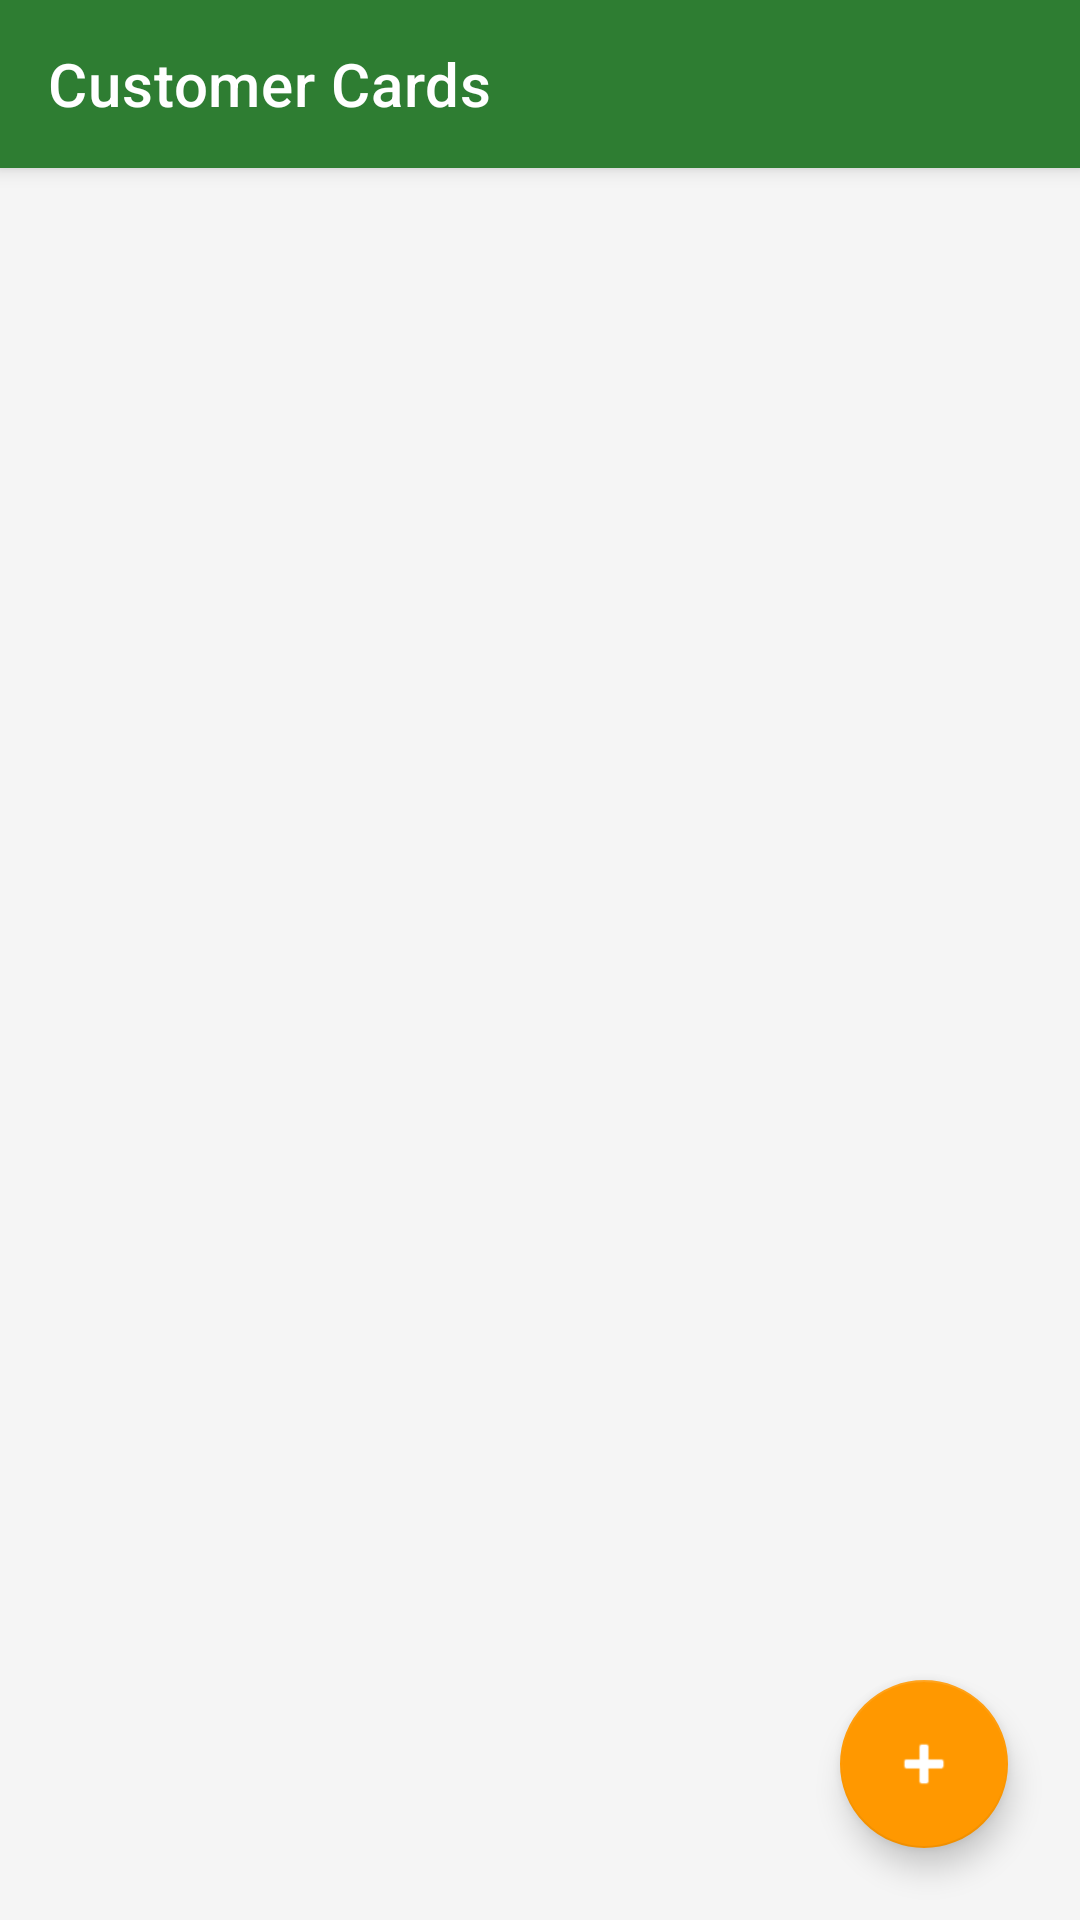

Icon click points for this 1080w x 1920h phone screenshot, format point (x, y):
Add a customer card: point (924, 1764)
